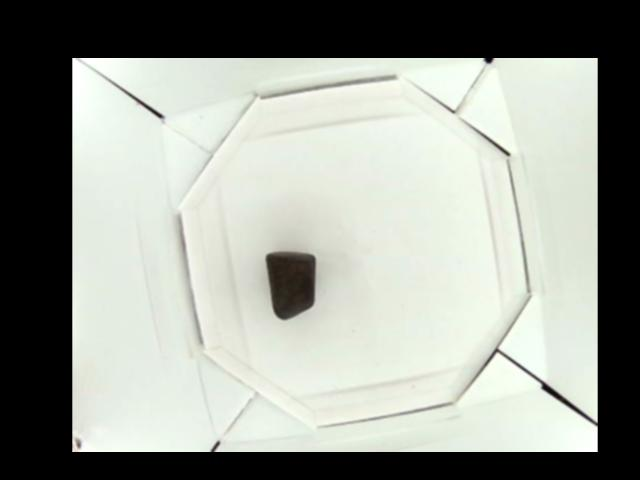Pebble: (268, 250, 314, 320)
